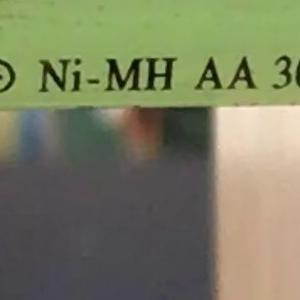keyword: (29, 48, 175, 102)
